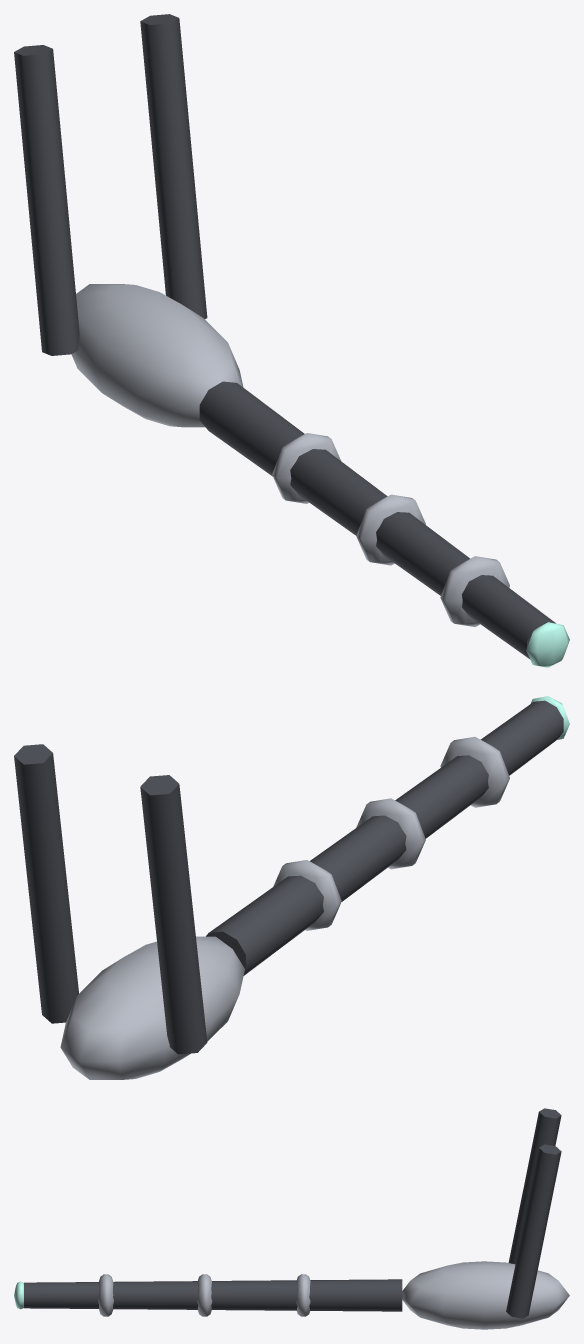
File: saucer_gun.obj
3 views of the same model, one above another, from view 1: azimuth 30°, elevation 25°; view 2: azimuth 150°, elevation 25°; view 3: azimuth 270°, elevation 25° (orthographic). The views are drawn at different scales.
Parts seen in each view (by area): view 1: part3, part2, part0, part1, part6, part5, part4, part7; view 2: part3, part2, part0, part1, part6, part5, part4; view 3: part3, part2, part1, part0, part6, part5, part4.
Boxes of the visible parts, bbox=[...] form: part3: bbox=[199, 381, 555, 658]; part2: bbox=[71, 284, 243, 427]; part0: bbox=[14, 45, 79, 355]; part1: bbox=[140, 14, 207, 318]; part6: bbox=[440, 556, 509, 626]; part5: bbox=[356, 494, 425, 565]; part4: bbox=[272, 433, 340, 503]; part7: bbox=[526, 622, 569, 667]; part3: bbox=[206, 700, 563, 975]; part2: bbox=[60, 936, 244, 1079]; part0: bbox=[140, 775, 207, 1054]; part1: bbox=[14, 744, 78, 1023]; part6: bbox=[440, 736, 509, 807]; part5: bbox=[356, 798, 425, 869]; part4: bbox=[273, 860, 341, 930]; part3: bbox=[24, 1279, 402, 1311]; part2: bbox=[402, 1261, 569, 1329]; part1: bbox=[506, 1144, 561, 1318]; part0: bbox=[508, 1108, 561, 1264]; part6: bbox=[98, 1274, 113, 1316]; part5: bbox=[197, 1274, 212, 1316]; part4: bbox=[296, 1274, 310, 1316].
Size of the model in its own units: 0.3206 by 0.6563 by 1.69.
